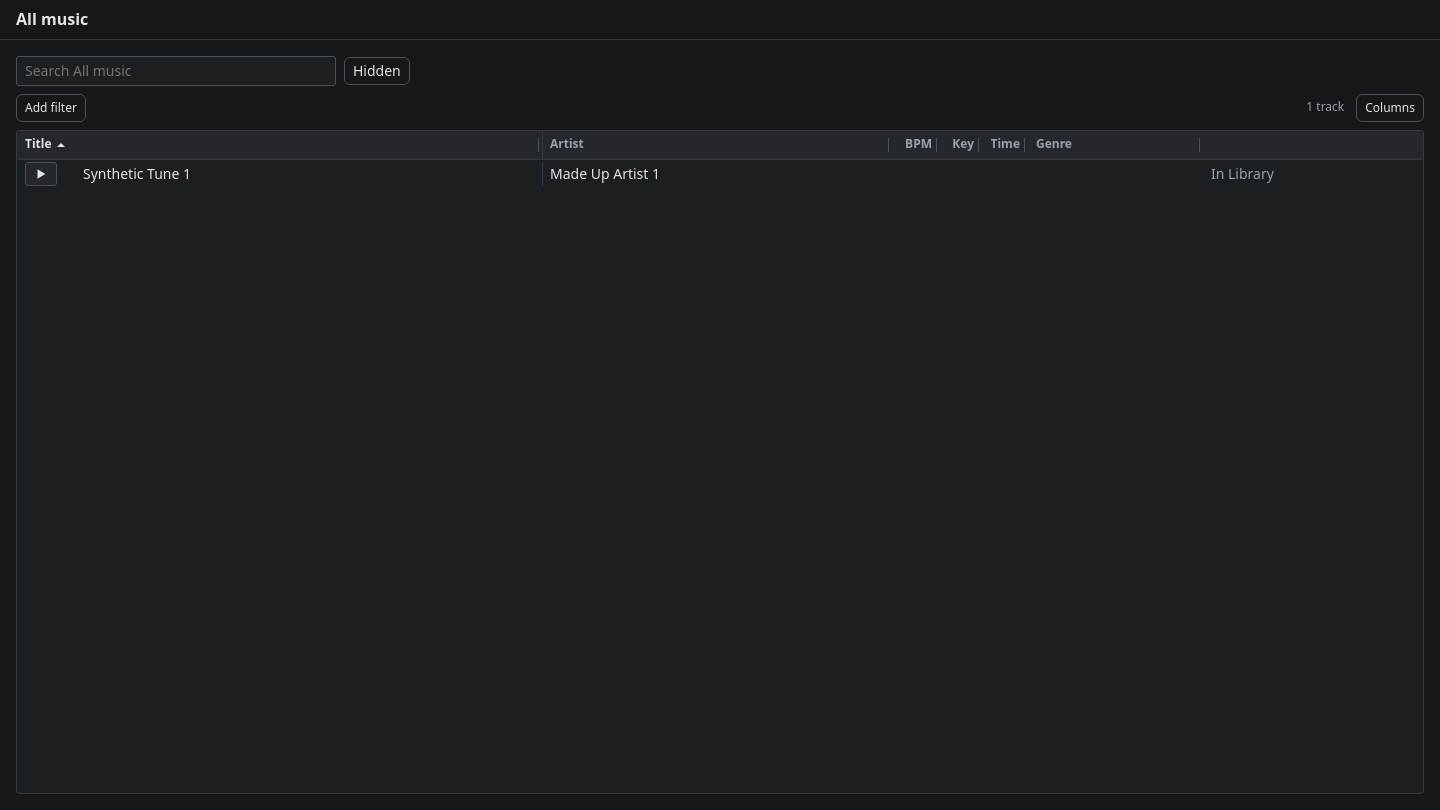
Scenario: the Hidden filter in All music › lists each hidden file with its reason, and a way back only where there is one
The width and height of the screenshot is (1440, 810).
Click the button "Hidden": (377,71) [344, 57, 410, 85]
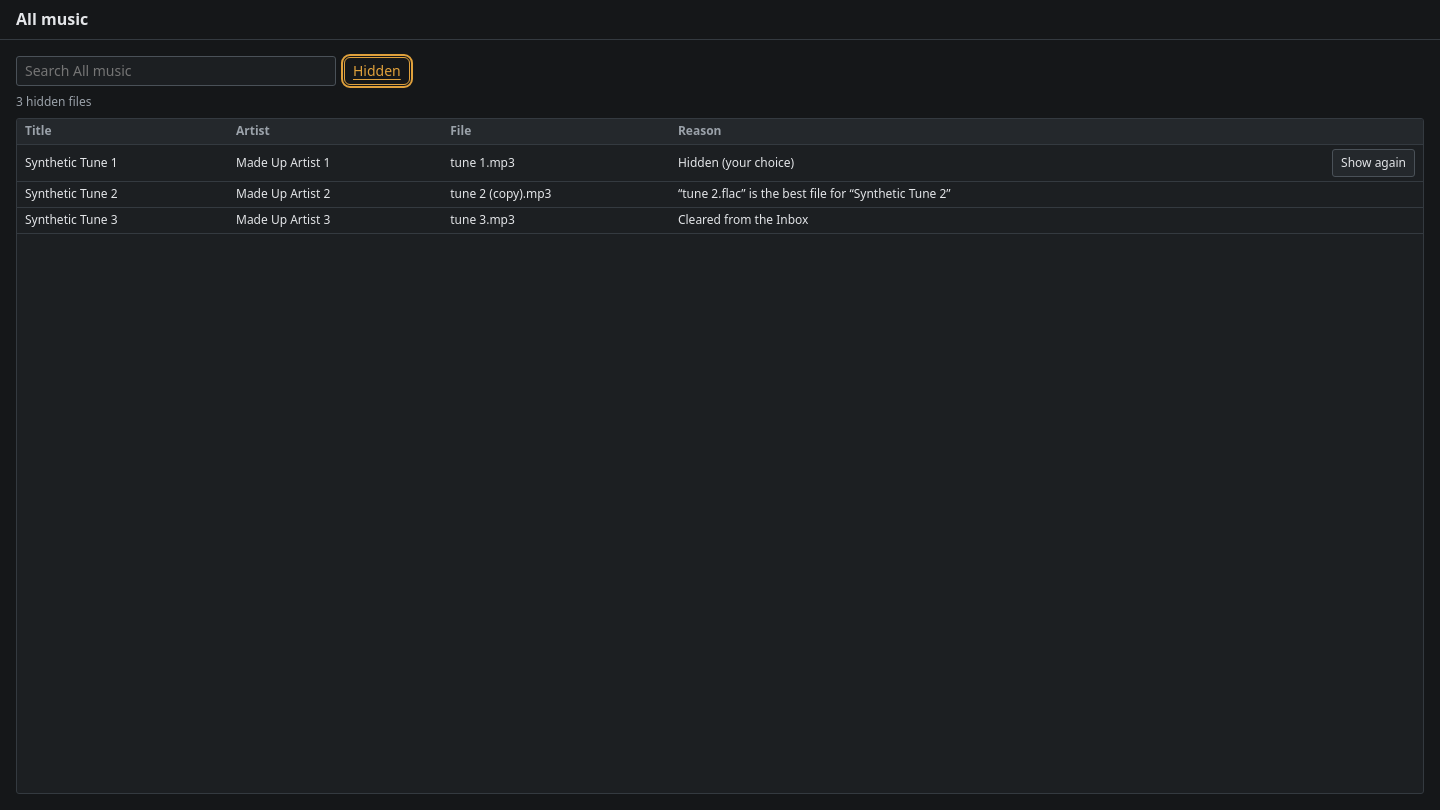
Expected: the row that starts with "Synthetic Tune 1" is shown, [25, 154, 118, 171]
Expected: the row that starts with "Synthetic Tune 1" shows "tune 1.mp3", [450, 154, 515, 171]
Expected: the row that starts with "Synthetic Tune 1" shows "Hidden (your choice)", [678, 154, 794, 171]
